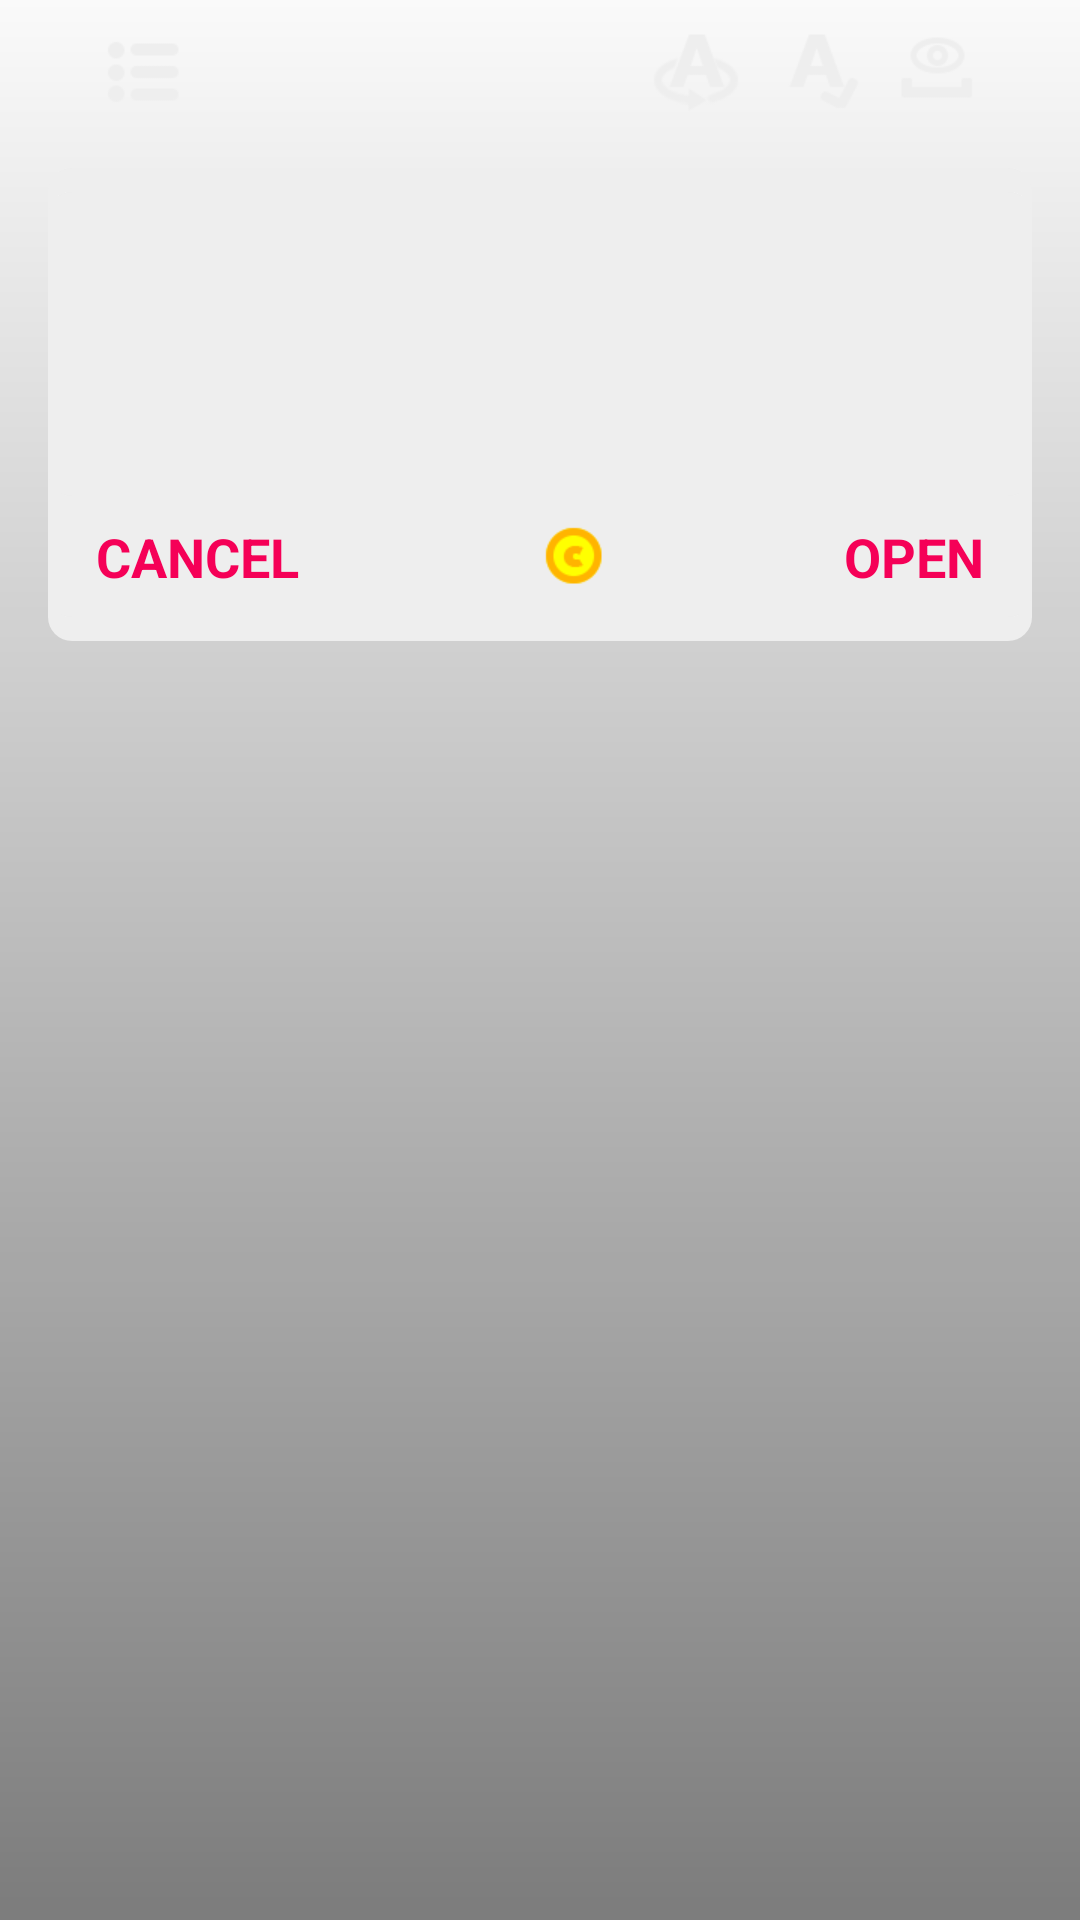

Where to tap for icons on this 1080 x 1920 app screen, as point (x, y):
coin: point (573, 555)
